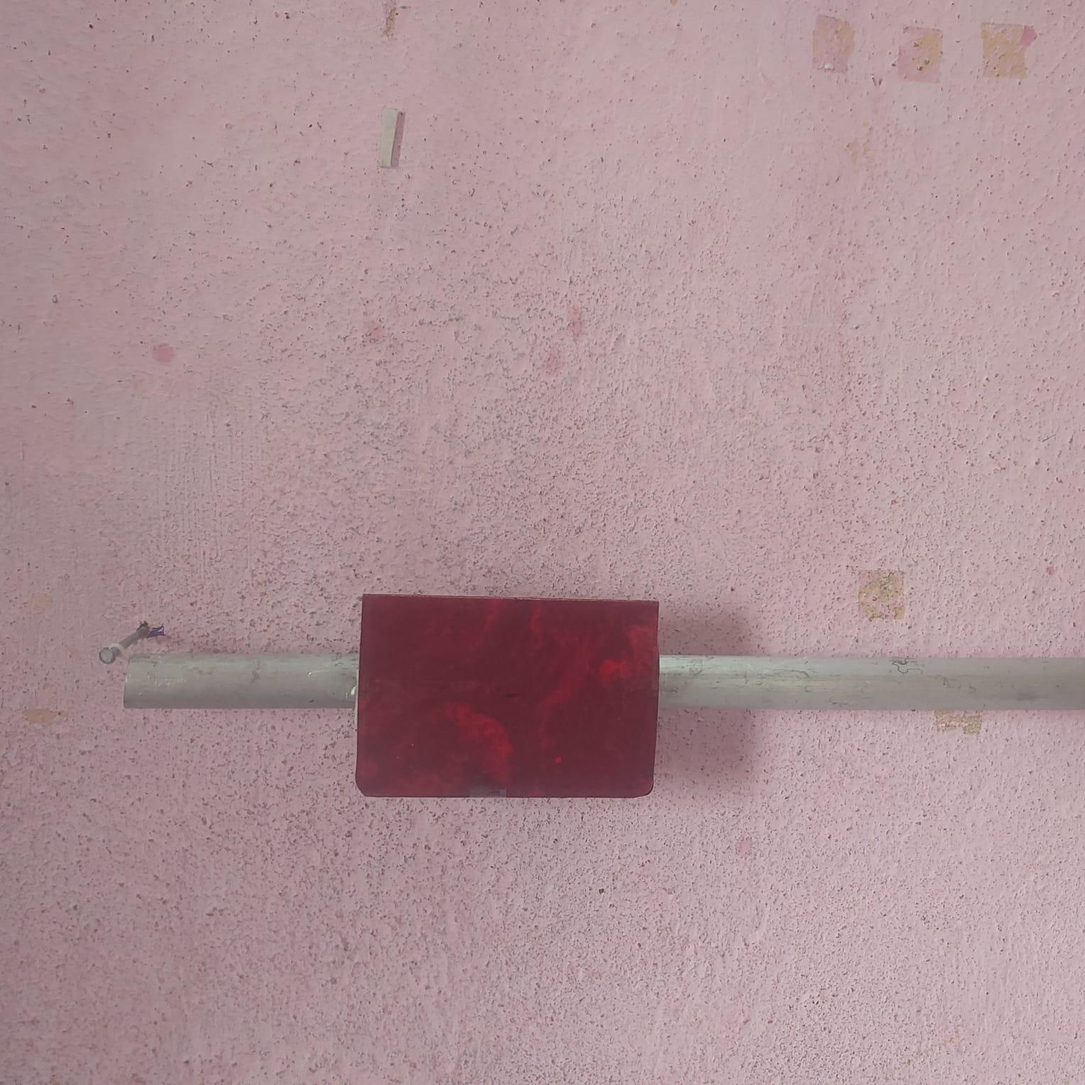wallet: (353, 592, 656, 800)
